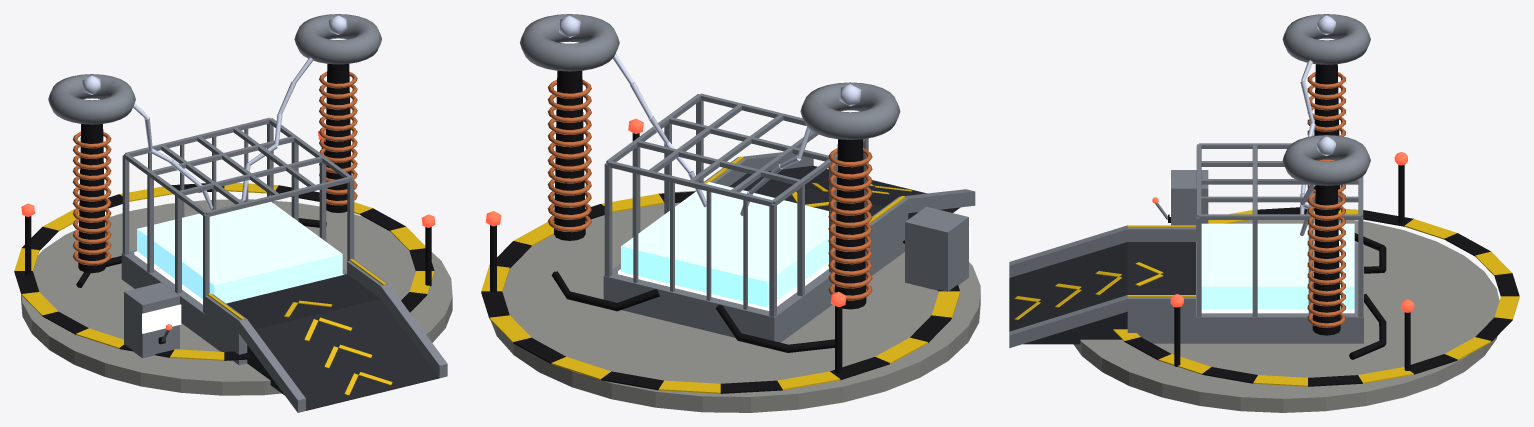
The model's file is TeslaCageFurnace_Roblox.fbx.
3 renders of one model, left to right at view 1: azimuth 30°, elevation 25°; view 2: azimuth 150°, elevation 25°; view 3: azimuth 270°, elevation 25°, orthographic. The views are drawn at different scales.
Parts seen in each view (by area): view 1: Steel, Concrete, Conveyor, BurnZone, Black, CopperCoil, HazardYellow, Lightning, PlasmaPool; view 2: Concrete, Steel, Black, BurnZone, CopperCoil, HazardYellow, Conveyor, Lightning, PlasmaPool, WarningLight; view 3: Concrete, Steel, Conveyor, Black, BurnZone, HazardYellow, CopperCoil, Lightning, PlasmaPool, WarningLight.
Boxes of the visible parts, x1,y1,x2,y2 form: Steel: [48, 14, 447, 412]; Concrete: [21, 199, 452, 395]; Conveyor: [226, 274, 439, 410]; BurnZone: [137, 202, 342, 303]; Black: [14, 64, 434, 360]; CopperCoil: [72, 71, 357, 265]; HazardYellow: [14, 183, 434, 395]; Lightning: [82, 15, 347, 209]; PlasmaPool: [134, 251, 343, 333]; Concrete: [490, 190, 980, 412]; Steel: [520, 14, 975, 342]; Black: [481, 71, 959, 393]; BurnZone: [621, 182, 828, 307]; CopperCoil: [547, 80, 872, 300]; HazardYellow: [481, 156, 960, 393]; Conveyor: [729, 165, 960, 219]; Lightning: [559, 15, 861, 215]; PlasmaPool: [618, 226, 970, 310]; WarningLight: [485, 118, 846, 306]; Concrete: [1073, 220, 1499, 412]; Steel: [1009, 14, 1370, 348]; Conveyor: [1009, 242, 1195, 344]; Black: [1124, 64, 1519, 386]; BurnZone: [1201, 223, 1354, 309]; HazardYellow: [1014, 209, 1519, 386]; CopperCoil: [1307, 72, 1345, 327]; Lightning: [1300, 15, 1335, 235]; PlasmaPool: [1169, 178, 1354, 313]; WarningLight: [1152, 152, 1414, 312].
Size of the model in its own units: 1400 by 895 by 1640.
